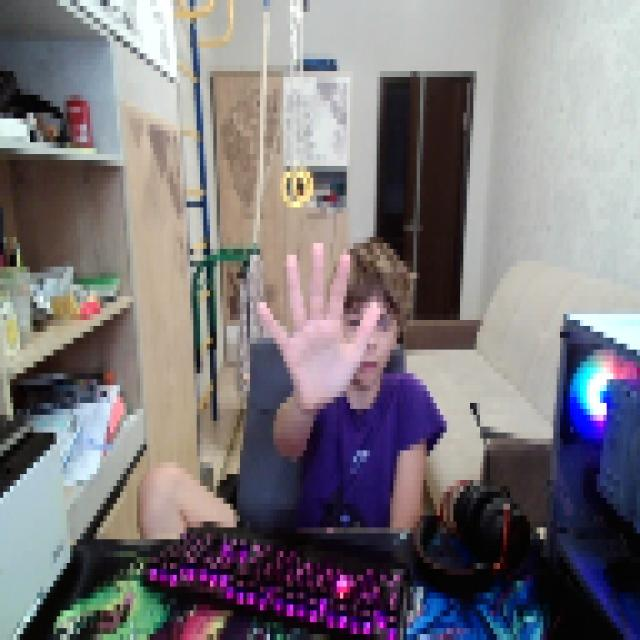hand: (253, 231, 380, 403)
